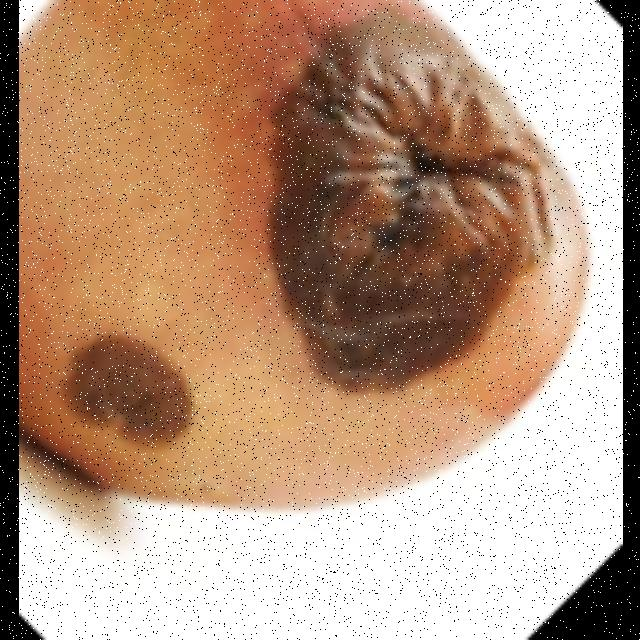Apel Tidak Segar: (18, 0, 614, 519)
